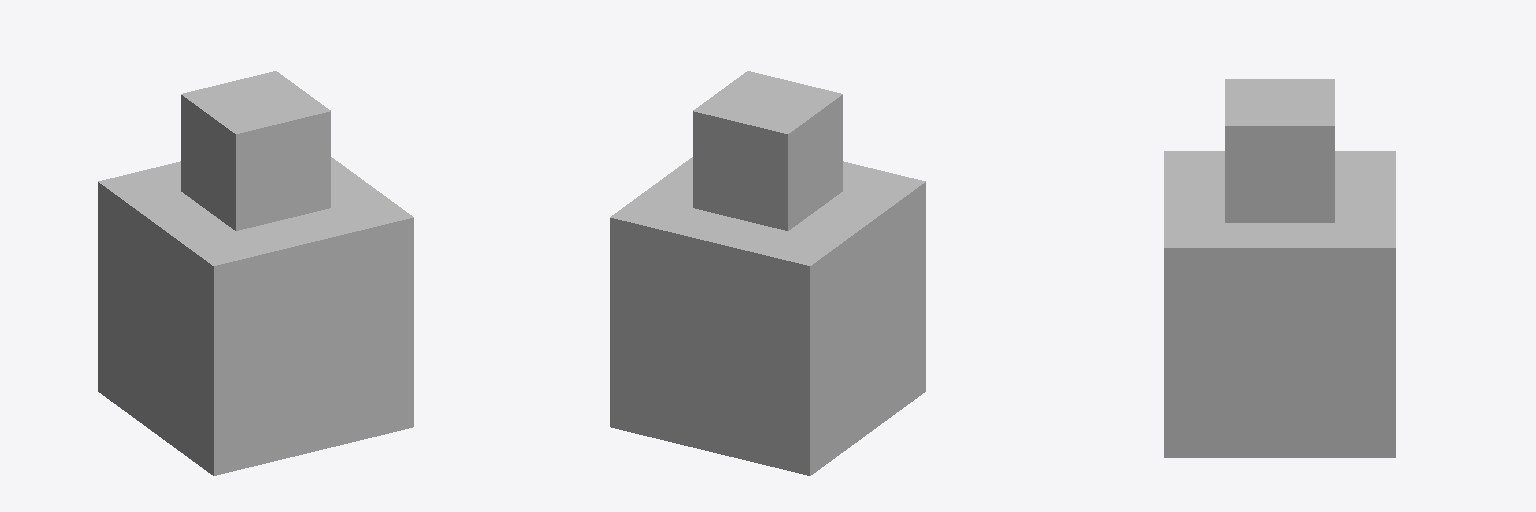
File: Cubes.obj
3 renders of one model, left to right at view 1: azimuth 30°, elevation 25°; view 2: azimuth 150°, elevation 25°; view 3: azimuth 270°, elevation 25°, orthographic.
Visible parts, largest first — view 1: Cube, Cube.001; view 2: Cube, Cube.001; view 3: Cube, Cube.001.
Boxes of the visible parts, box(x1,y1,x2,y2) form: Cube: box(98, 157, 413, 475); Cube.001: box(181, 71, 330, 230); Cube: box(610, 157, 925, 475); Cube.001: box(693, 71, 842, 230); Cube: box(1164, 151, 1395, 457); Cube.001: box(1225, 79, 1334, 222).
Size of the model in its own units: 0.6858 by 1 by 0.6858.